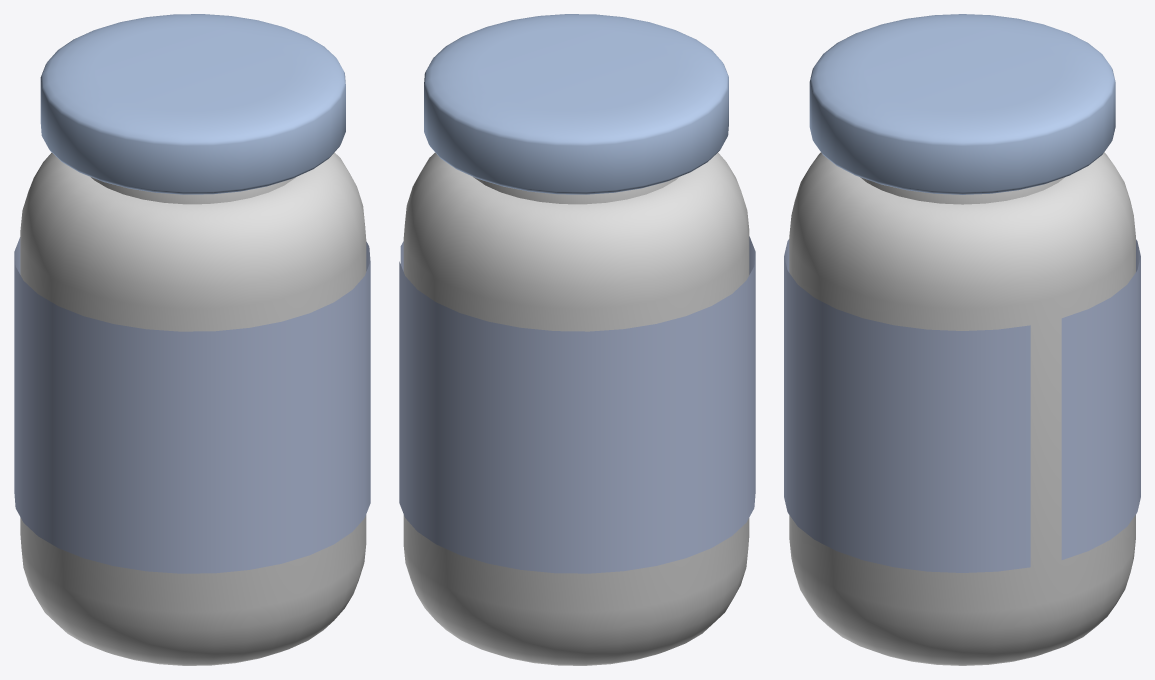
File: Pill bottle 2 smooth.fbx
3 renders of one model, left to right at view 1: azimuth 30°, elevation 25°; view 2: azimuth 150°, elevation 25°; view 3: azimuth 270°, elevation 25°, orthographic.
Visible parts, largest first — view 1: Cylinder.003, Cylinder, Cylinder.001, Cylinder.002; view 2: Cylinder.003, Cylinder, Cylinder.001, Cylinder.002; view 3: Cylinder, Cylinder.003, Cylinder.001, Cylinder.002.
Boxes of the visible parts, left/top/right/bottom form: Cylinder.003: left=14, top=237, right=370, bottom=573; Cylinder: left=20, top=152, right=366, bottom=665; Cylinder.001: left=40, top=14, right=345, bottom=194; Cylinder.002: left=91, top=177, right=295, bottom=204; Cylinder.003: left=399, top=236, right=755, bottom=573; Cylinder: left=403, top=152, right=749, bottom=665; Cylinder.001: left=424, top=14, right=728, bottom=194; Cylinder.002: left=473, top=177, right=678, bottom=204; Cylinder: left=789, top=152, right=1135, bottom=665; Cylinder.003: left=784, top=239, right=1140, bottom=572; Cylinder.001: left=809, top=14, right=1115, bottom=194; Cylinder.002: left=860, top=177, right=1064, bottom=204.
Bounding box in the file's own units: 140 × 235 × 140.
